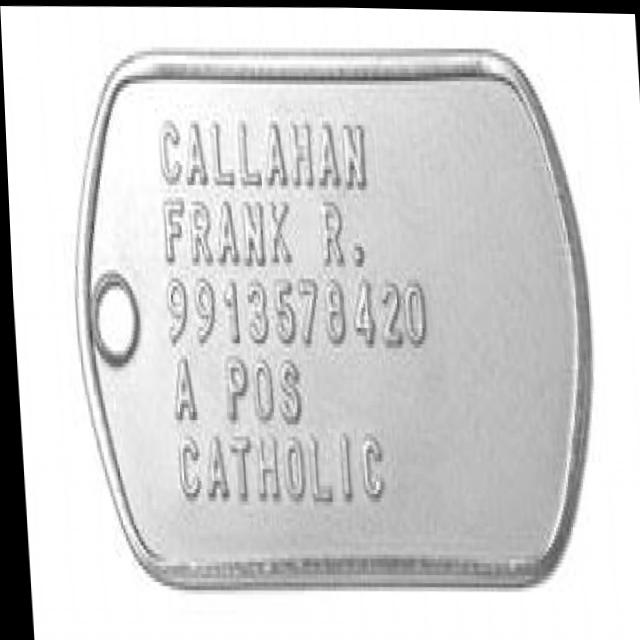ocr: (145, 102, 434, 523)
